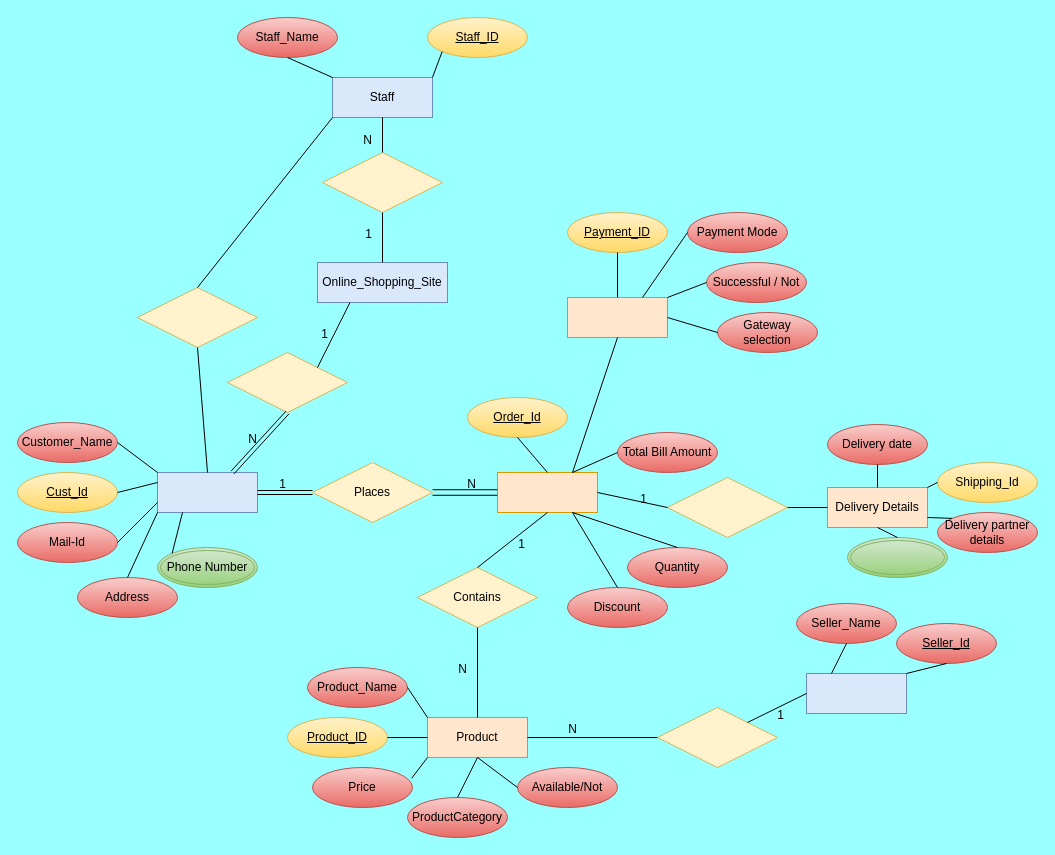
Some shapes in this 1055 by 855 pixel diagram are drawn without their labels. Each missing label, with the box of its shape:
browses: (226, 352, 348, 412)
Customer: (156, 472, 258, 512)
Designs/Manages: (322, 152, 442, 212)
Handles Queries: (136, 286, 258, 348)
Has: (666, 476, 788, 538)
Order: (496, 472, 598, 512)
Payment: (566, 296, 668, 338)
Phone_no: (846, 536, 948, 578)
Seller: (806, 672, 906, 714)
Sells: (656, 706, 778, 768)
